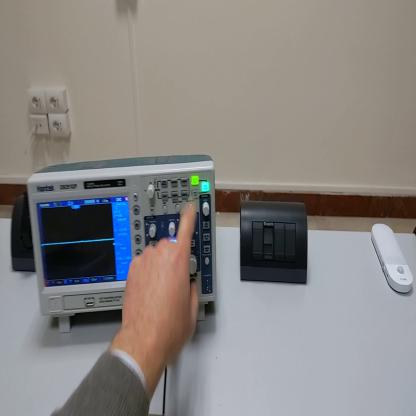hand: (119, 201, 200, 366)
oscilloscope: (23, 151, 217, 336)
socket: (10, 204, 38, 273)
